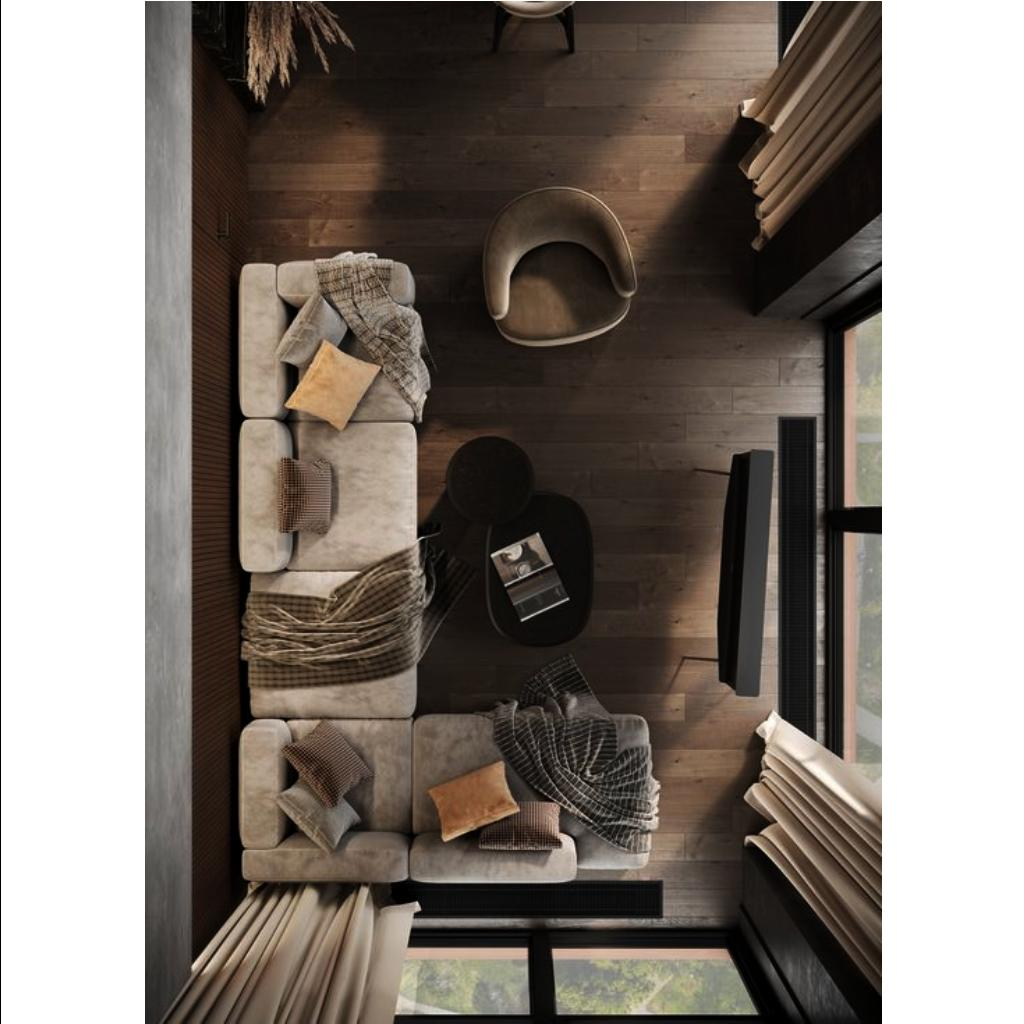TV stand: (712, 444, 772, 698)
chair: (483, 186, 637, 348)
coffee table: (440, 436, 590, 648)
sofa: (238, 258, 414, 716), (237, 720, 647, 884)
window: (200, 1000, 532, 1022), (538, 1000, 846, 1022), (856, 522, 878, 784), (856, 278, 878, 516)
